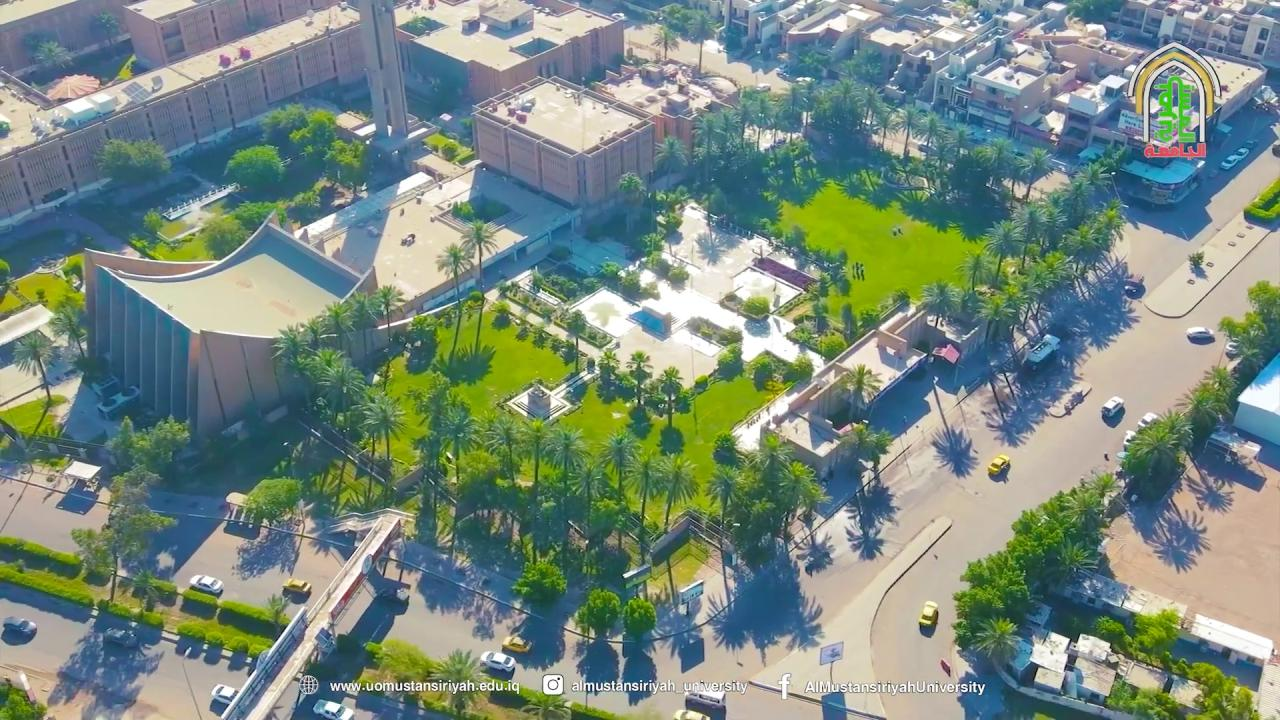car: (1024, 333, 1060, 371), (312, 699, 354, 719), (684, 690, 726, 709), (480, 651, 515, 673), (104, 626, 138, 648), (189, 574, 223, 595), (930, 342, 960, 365), (3, 616, 36, 634), (501, 634, 532, 653), (211, 684, 237, 706), (918, 601, 939, 626), (315, 627, 335, 652), (282, 578, 311, 595), (1102, 396, 1124, 417), (988, 455, 1009, 476), (1186, 327, 1215, 342), (1137, 411, 1159, 430), (673, 709, 711, 719), (1122, 429, 1136, 452), (1224, 339, 1240, 359)
fountain: (157, 182, 241, 222), (731, 268, 796, 314), (572, 292, 640, 334)
tree: (951, 467, 1119, 667), (703, 428, 829, 578), (69, 463, 178, 604), (706, 547, 824, 667), (702, 464, 746, 607), (358, 390, 408, 507), (1121, 407, 1193, 488), (1173, 363, 1238, 452), (46, 296, 109, 385), (108, 413, 191, 480), (598, 427, 642, 552), (958, 550, 1029, 626), (364, 637, 438, 702), (409, 377, 457, 475), (310, 351, 366, 434), (626, 449, 666, 565), (269, 322, 318, 414), (843, 483, 898, 562), (92, 135, 172, 188), (652, 451, 698, 532), (427, 647, 481, 714), (240, 476, 302, 533), (1125, 606, 1181, 667), (436, 399, 477, 482), (843, 419, 893, 486), (11, 329, 58, 400), (567, 457, 607, 540), (703, 463, 750, 532), (222, 144, 285, 195), (310, 457, 362, 517), (541, 420, 587, 487), (428, 341, 495, 387), (434, 242, 473, 319), (484, 413, 526, 483), (322, 137, 370, 198), (1217, 310, 1267, 368), (1059, 222, 1107, 281), (511, 558, 567, 607), (459, 218, 498, 288), (0, 257, 47, 315), (837, 361, 882, 421), (982, 218, 1024, 282), (929, 423, 976, 479), (47, 296, 89, 358), (971, 615, 1020, 667), (344, 290, 382, 357), (783, 590, 824, 652), (650, 365, 689, 428), (519, 416, 554, 486), (691, 112, 724, 185), (288, 112, 336, 162), (976, 134, 1018, 190), (199, 214, 250, 260), (576, 587, 620, 639), (1015, 145, 1053, 202), (1051, 533, 1096, 581), (684, 11, 718, 73), (919, 278, 959, 327), (653, 134, 688, 189), (373, 284, 406, 342), (320, 300, 355, 353), (978, 292, 1012, 346), (518, 687, 572, 719), (894, 102, 924, 159), (622, 349, 652, 405), (956, 248, 993, 293), (620, 595, 656, 639), (0, 687, 47, 719), (1090, 613, 1125, 655), (564, 309, 587, 372), (856, 84, 885, 133), (595, 346, 619, 403), (913, 111, 944, 153), (264, 593, 292, 639), (130, 568, 159, 612), (802, 538, 833, 577), (34, 38, 73, 69), (711, 430, 741, 469), (694, 229, 724, 266), (637, 229, 665, 268), (716, 342, 744, 381), (783, 352, 814, 387), (739, 295, 771, 328), (651, 23, 678, 60), (816, 332, 846, 362), (616, 171, 644, 203), (96, 10, 120, 46), (618, 266, 642, 300), (839, 302, 858, 343), (489, 299, 512, 329), (666, 265, 690, 289), (1186, 249, 1204, 271)
